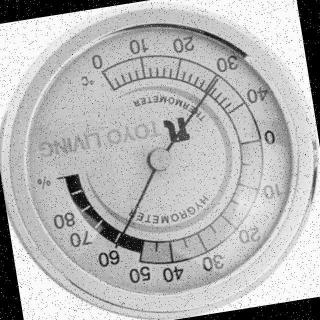gauge: (0, 0, 320, 320), (47, 157, 93, 201), (84, 57, 126, 100), (144, 146, 175, 172), (108, 234, 126, 252), (208, 71, 226, 89)
